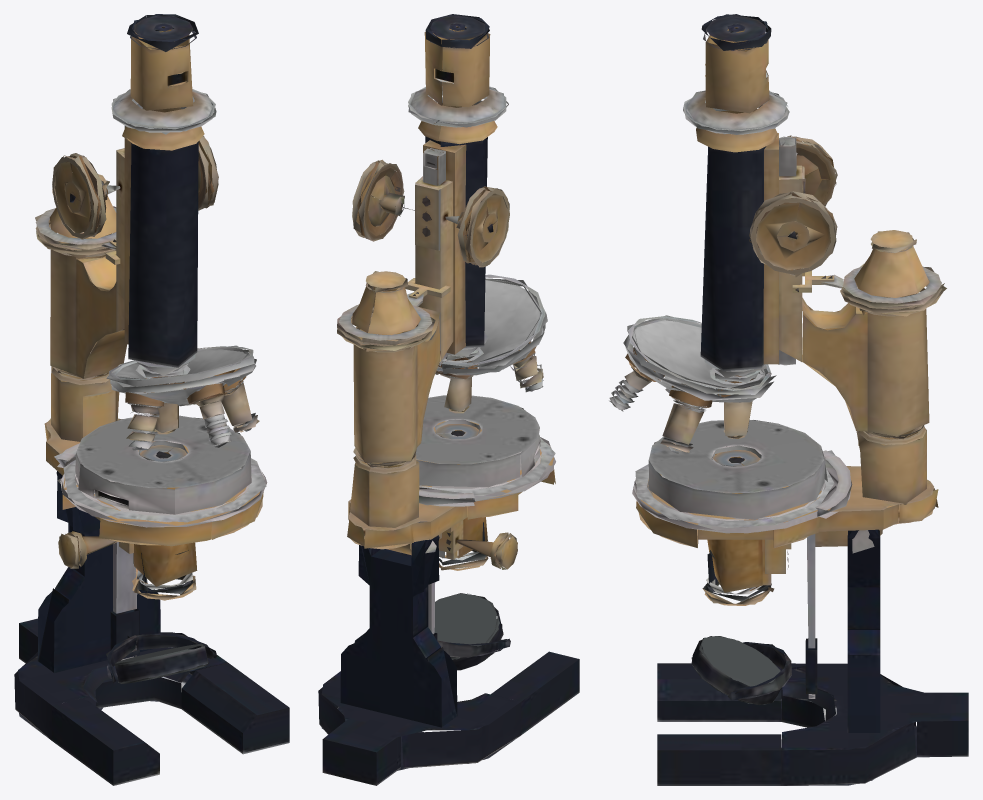
Rendered from vintage_microscope.glb.
3 renders of one model, left to right at view 1: azimuth 30°, elevation 25°; view 2: azimuth 150°, elevation 25°; view 3: azimuth 270°, elevation 25°, orthographic. The views are drawn at different scales.
Visible parts, largest first — view 1: vintage_microscope_mirror_arm; view 2: vintage_microscope_mirror_arm; view 3: vintage_microscope_mirror_arm.
Boxes of the visible parts, x1,y1,x2,y2 form: vintage_microscope_mirror_arm: [14, 14, 289, 785]; vintage_microscope_mirror_arm: [318, 14, 579, 785]; vintage_microscope_mirror_arm: [609, 14, 968, 785].
Bounding box in the file's own units: 0.1061 × 0.3996 × 0.1825.
2 materials, 2 textured.
